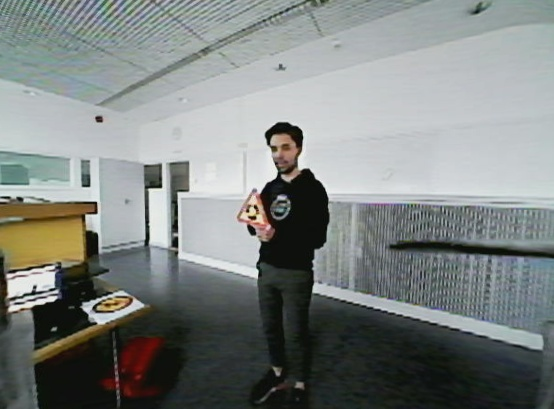roundabout_warning: (233, 185, 274, 233)
